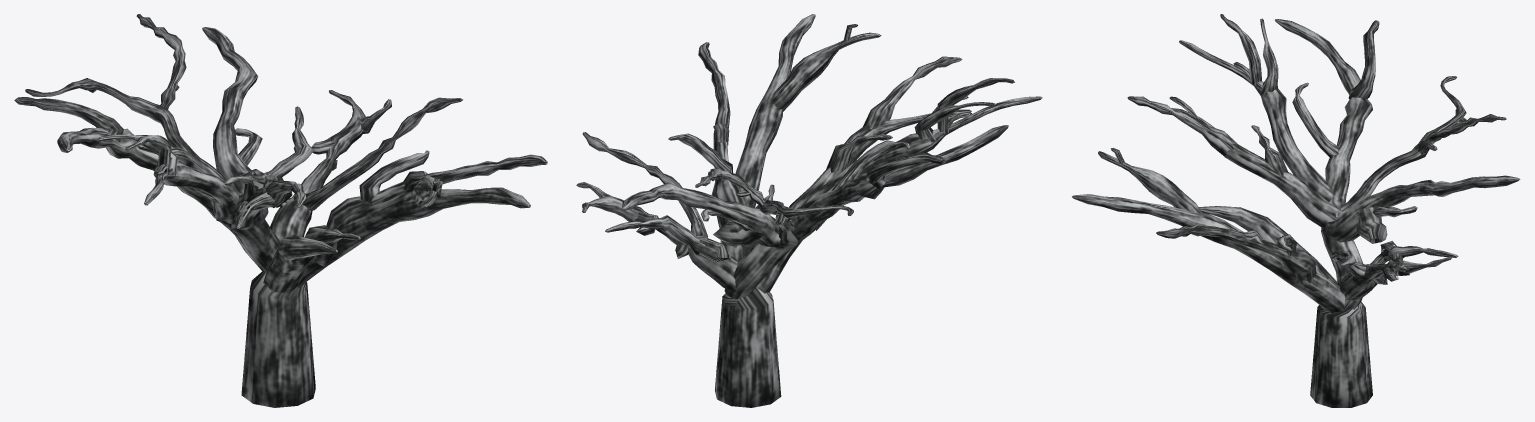
File: TarTree06.glb
The picture shows the model from 3 angles, left to right: view 1: azimuth 30°, elevation 25°; view 2: azimuth 150°, elevation 25°; view 3: azimuth 270°, elevation 25°; orthographic projection. The views are drawn at different scales.
Parts seen in each view (by area): view 1: TarTree06_limbs; view 2: TarTree06_limbs; view 3: TarTree06_limbs.
Boxes of the visible parts, left/top/right/bottom form: TarTree06_limbs: left=14, top=14, right=547, bottom=407; TarTree06_limbs: left=576, top=14, right=1042, bottom=407; TarTree06_limbs: left=1072, top=14, right=1520, bottom=407.
Size of the model in its own units: 9.83 by 7.78 by 10.58.
Materials: 1 (1 with a texture image).
